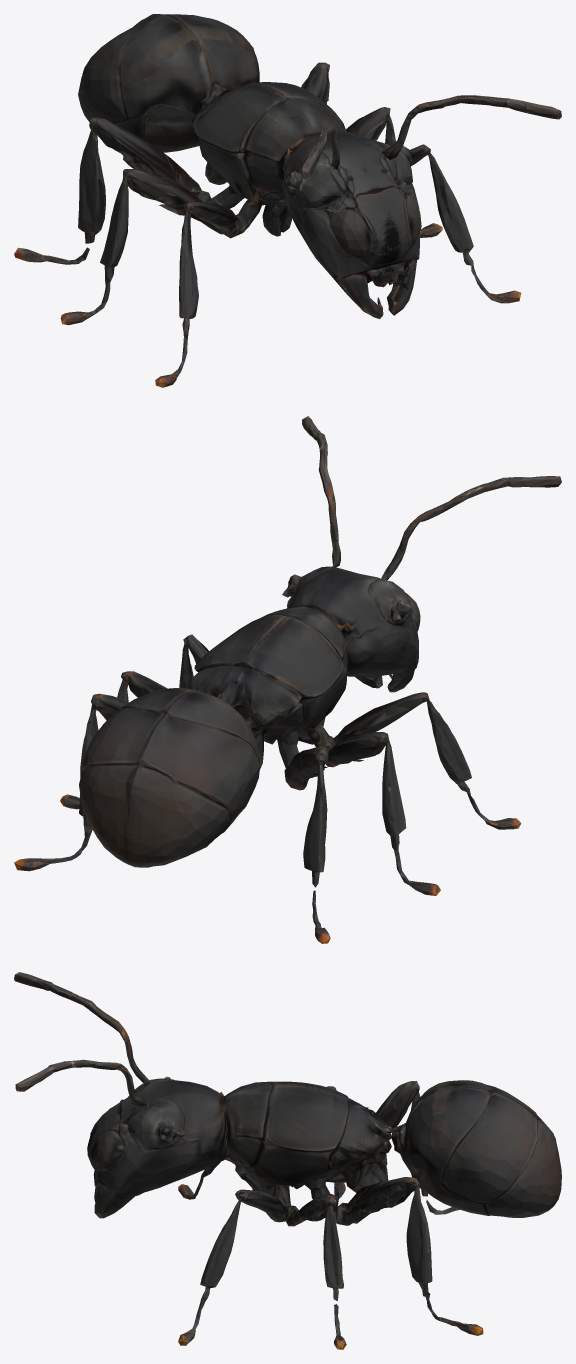
Rendered from Ant.fbx.
The picture shows the model from 3 angles, top to bottom: view 1: azimuth 30°, elevation 25°; view 2: azimuth 150°, elevation 25°; view 3: azimuth 270°, elevation 25°; orthographic projection. The views are drawn at different scales.
Visible parts, largest first — view 1: temp; view 2: temp; view 3: temp.
Part boxes in pixels (left/top/right/bottom): temp: left=14, top=14, right=561, bottom=387; temp: left=14, top=416, right=561, bottom=943; temp: left=14, top=972, right=561, bottom=1349.
Bounding box in the file's own units: 141 × 98.83 × 200.
Materials: 1 (1 with a texture image).
